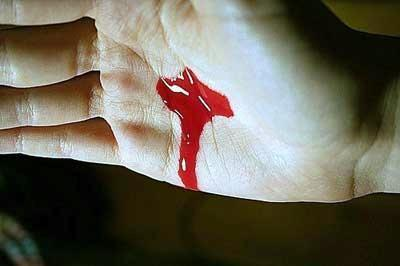Bloodstain-Detection: (156, 70, 214, 185)
